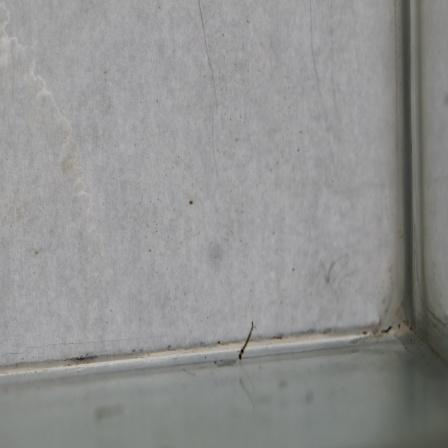Jentik-Nyamuk: (235, 319, 257, 365)
